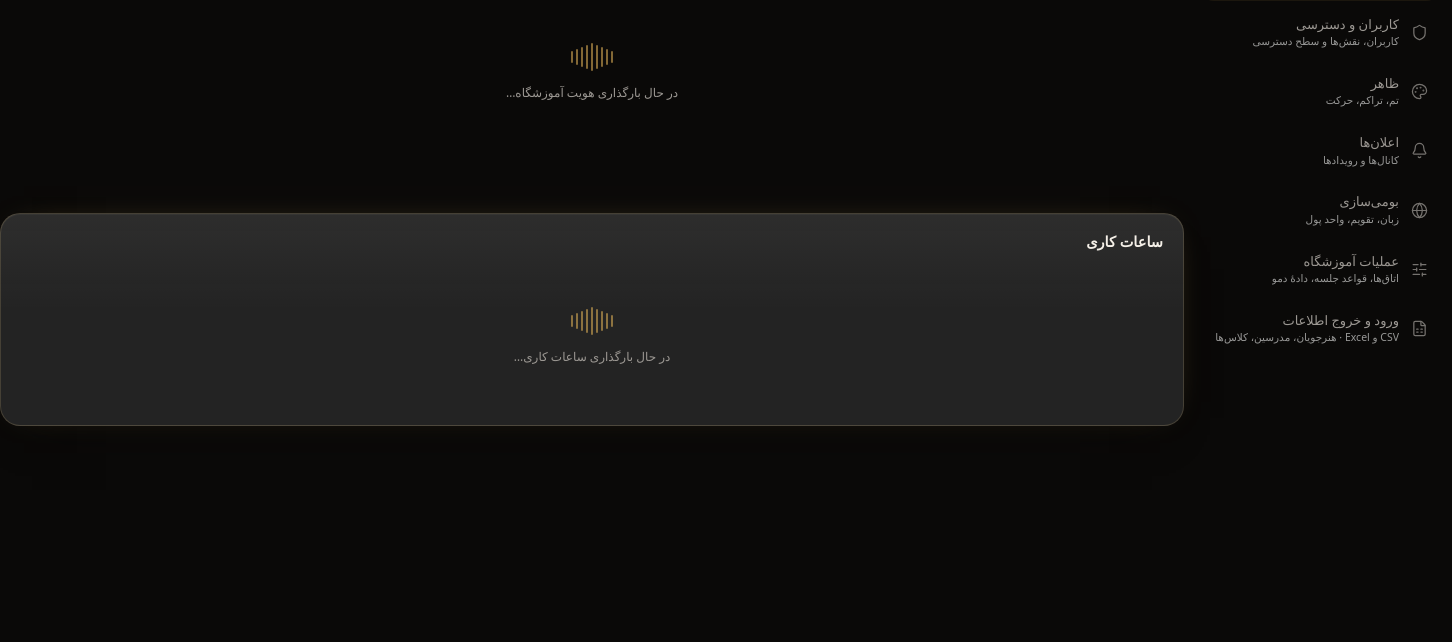
Test: colours typed by hand › states its own scope: this device, not the academy
Click the button "ظاهر تم، تراکم، حرکت": (1320, 92) [1200,64,1440,119]
(page scrolled)
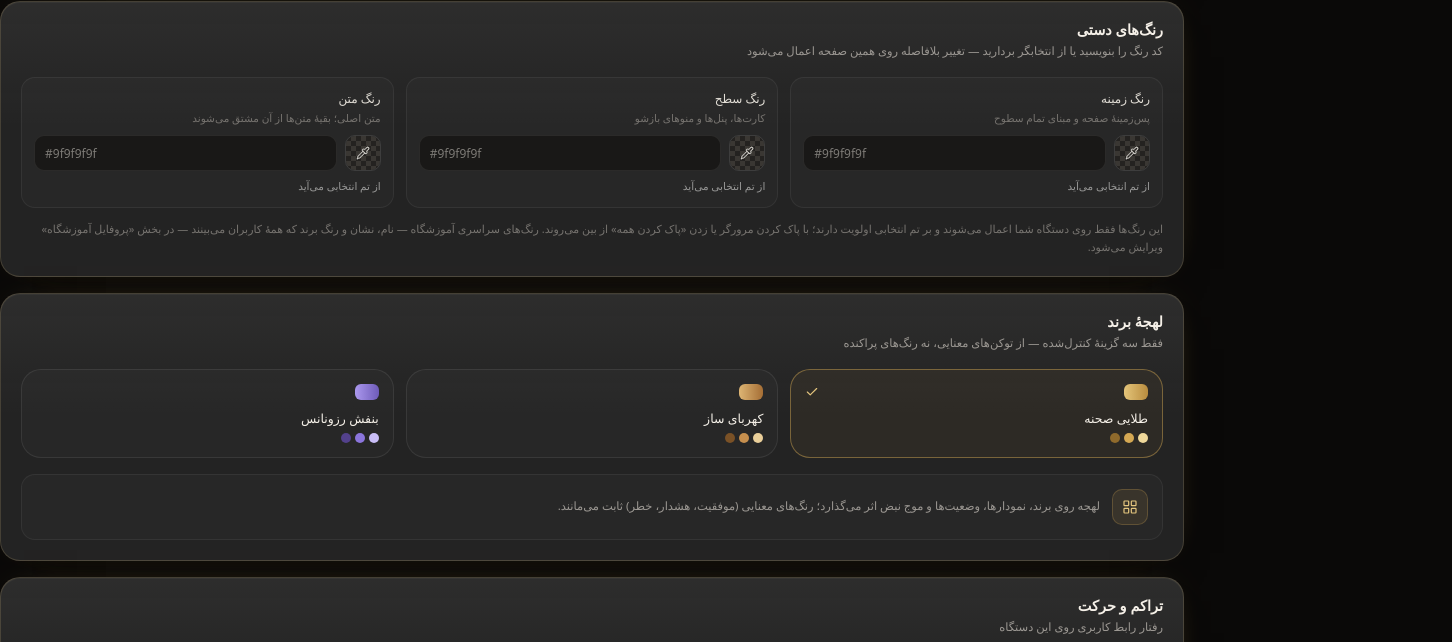
Now the text "این رنگ‌ها فقط روی دستگاه شما اعمال می‌شوند" is shown, box [42,221,1163,254]
